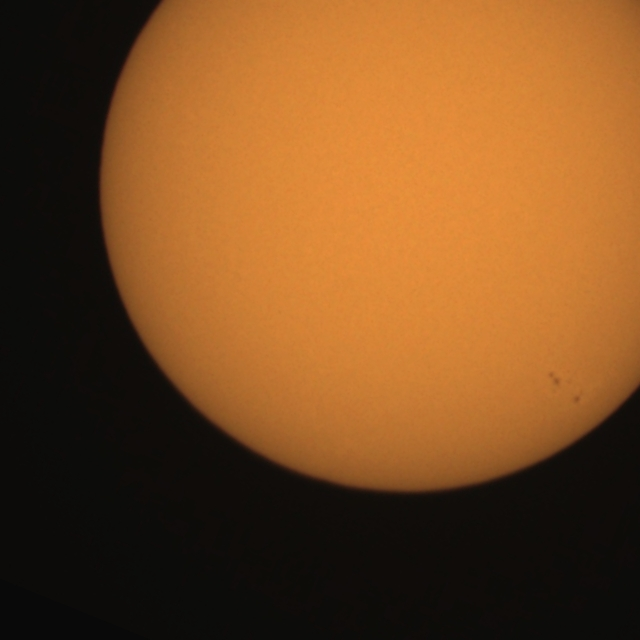sunspot: (547, 367, 583, 404), (546, 370, 564, 388), (572, 393, 582, 406)
